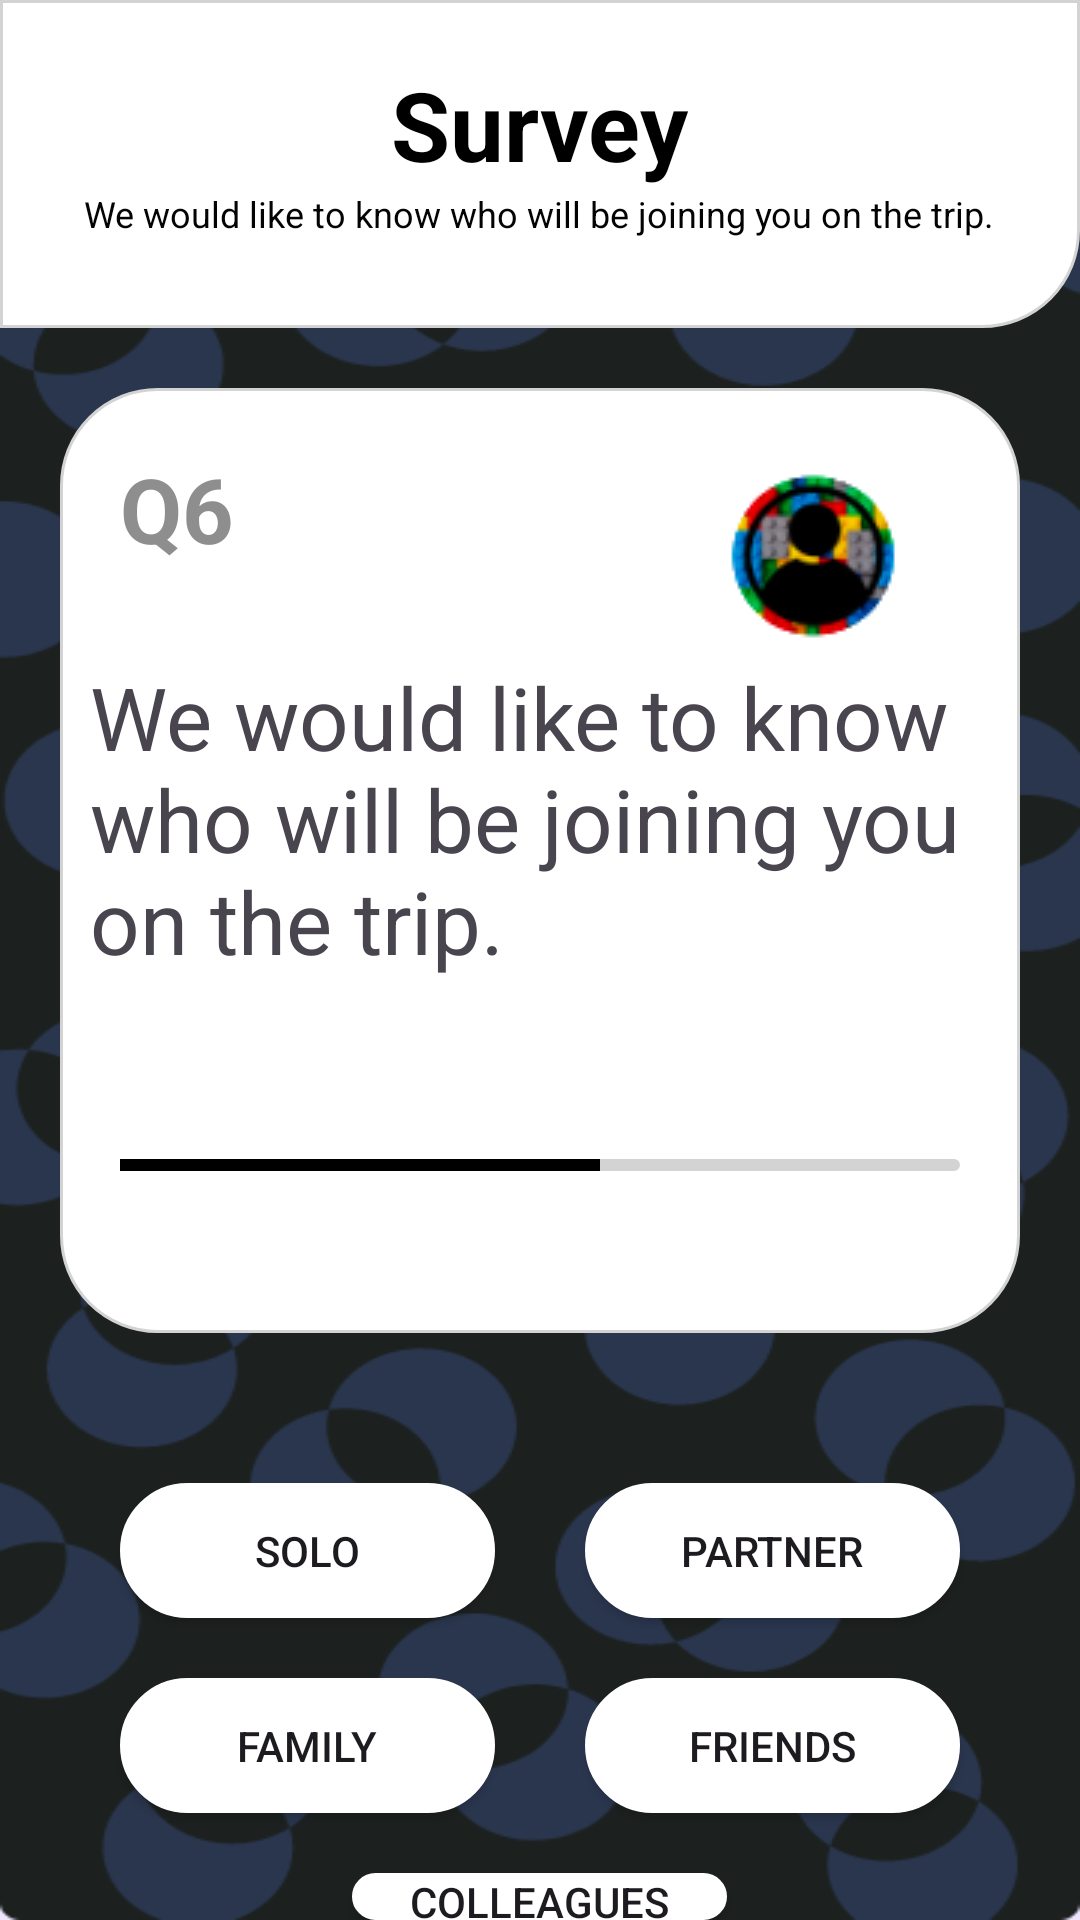

Named icons in this screenshot (1080w x 1920h) and their centers, (x=x, y=y):
person: (x=813, y=556)
